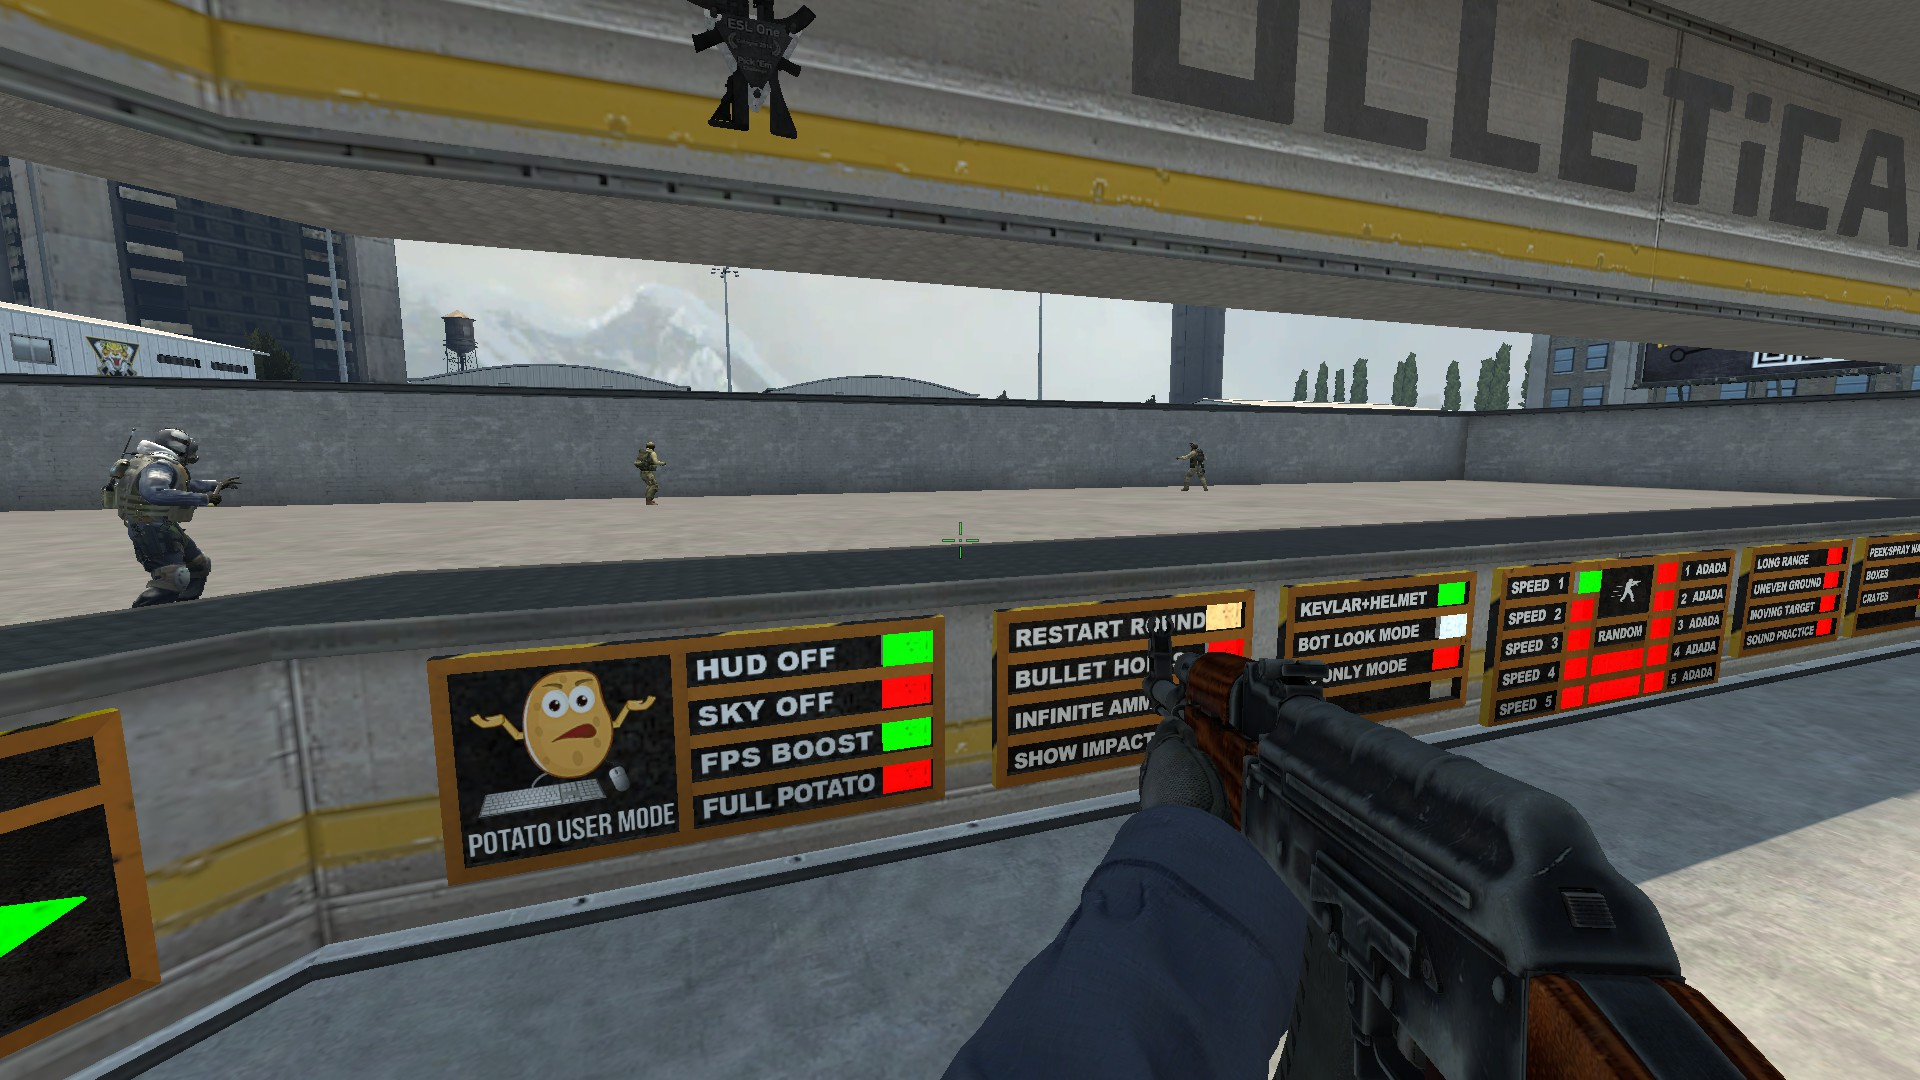ct: (102, 425, 243, 611)
ct head: (145, 425, 204, 467)
